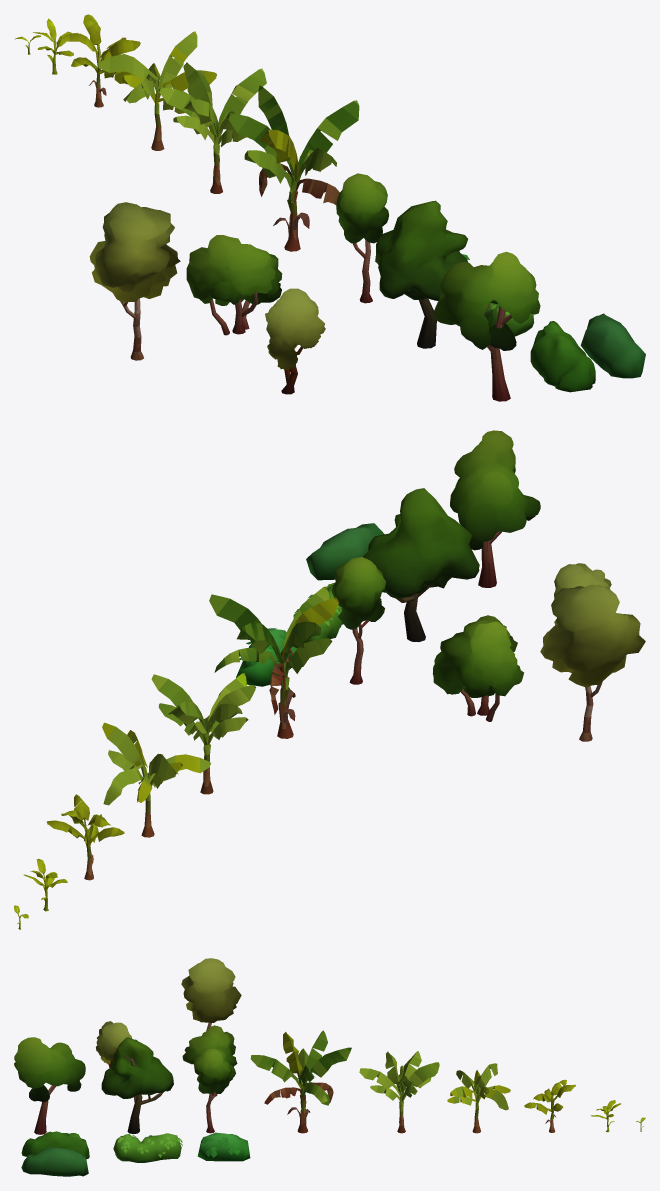
File: RAC_Trees_01.fbx
3 views of the same model, one above another, from view 1: azimuth 30°, elevation 25°; view 2: azimuth 150°, elevation 25°; view 3: azimuth 270°, elevation 25° (orthographic). The views are drawn at different scales.
Visible parts, largest first — view 1: SM_Arbre_001, SM_Arbre_004, SM_Arbre_003, SM_Bananier_002, SM_Arbre_003.001, SM_Bananier_001, SM_DamagedWall_021, SM_Arbre_002.002, SM_Arbre_002, SM_Buisson_003, SM_Buisson_004, SM_Bananier_004 (+2 smaller); view 2: SM_Arbre_003, SM_Arbre_004, SM_Arbre_001, SM_Bananier_002, SM_Arbre_003.001, SM_Bananier_001, SM_DamagedWall_021, SM_Arbre_002, SM_Buisson_004, SM_Bananier_004, SM_Buisson_001, SM_Arbre_002.002; view 3: SM_Bananier_002, SM_Arbre_003, SM_Arbre_001, SM_Arbre_004, SM_Bananier_001, SM_Buisson_002, SM_DamagedWall_021, SM_Buisson_004, SM_Arbre_002, SM_Arbre_003.001, SM_Buisson_001, SM_Buisson_003 (+2 smaller).
Boxes of the visible parts, x1,y1,x2,y2 form: SM_Arbre_001: (434, 251, 540, 401); SM_Arbre_004: (89, 202, 180, 360); SM_Arbre_003: (375, 200, 468, 348); SM_Bananier_002: (228, 85, 359, 251); SM_Arbre_003.001: (186, 235, 282, 335); SM_Bananier_001: (159, 62, 266, 193); SM_DamagedWall_021: (97, 31, 216, 150); SM_Arbre_002.002: (265, 288, 325, 394); SM_Arbre_002: (336, 173, 388, 303); SM_Buisson_003: (530, 321, 595, 392); SM_Buisson_004: (580, 313, 645, 378); SM_Bananier_004: (60, 14, 140, 107); SM_Arbre_003: (363, 488, 479, 641); SM_Arbre_004: (540, 585, 645, 741); SM_Arbre_001: (450, 430, 540, 587); SM_Bananier_002: (209, 586, 339, 738); SM_Arbre_003.001: (432, 615, 523, 721); SM_Bananier_001: (151, 673, 255, 794); SM_DamagedWall_021: (102, 722, 211, 837); SM_Arbre_002: (331, 557, 385, 684); SM_Buisson_004: (306, 523, 384, 580); SM_Bananier_004: (47, 794, 124, 880); SM_Buisson_001: (236, 628, 297, 686); SM_Arbre_002.002: (554, 563, 611, 625); SM_Bananier_002: (250, 1030, 351, 1133); SM_Arbre_003: (101, 1037, 173, 1133); SM_Arbre_001: (14, 1037, 85, 1134); SM_Arbre_004: (181, 958, 241, 1030); SM_Bananier_001: (359, 1051, 439, 1133); SM_Buisson_002: (113, 1133, 182, 1162); SM_DamagedWall_021: (447, 1063, 510, 1133); SM_Buisson_004: (21, 1147, 88, 1176); SM_Arbre_002: (193, 1048, 231, 1133); SM_Arbre_003.001: (182, 1025, 237, 1096); SM_Buisson_001: (197, 1132, 250, 1161); SM_Buisson_003: (21, 1131, 89, 1159).
Size of the model in its own units: 16.64 by 5.83 by 33.62.
